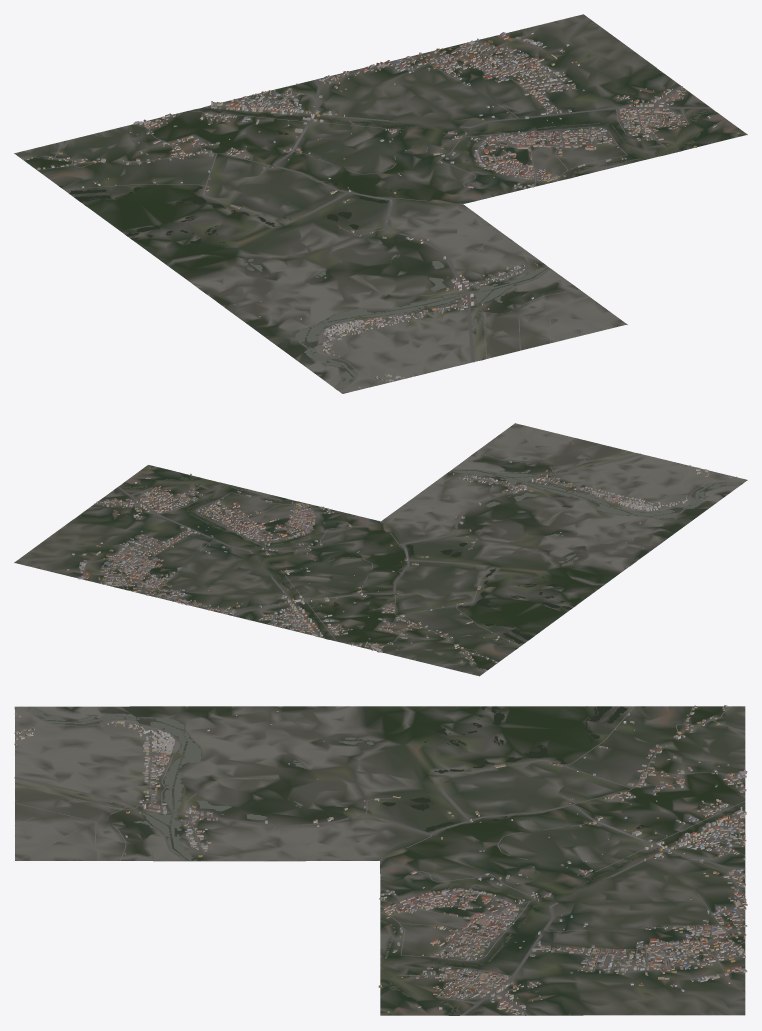
3 views of the same model, one above another, from view 1: azimuth 30°, elevation 25°; view 2: azimuth 150°, elevation 25°; view 3: azimuth 270°, elevation 25° (orthographic). The views are drawn at different scales.
Parts seen in each view (by area): view 1: ground, buildings, roads, water; view 2: ground, buildings, roads, water; view 3: ground, buildings, roads, water.
Part boxes in pixels (x1,y1,x2,y2): ground: [14, 14, 747, 393]; buildings: [22, 32, 739, 390]; roads: [20, 24, 711, 391]; water: [59, 47, 714, 388]; ground: [14, 423, 747, 676]; buildings: [67, 455, 737, 671]; roads: [46, 429, 745, 672]; water: [75, 453, 741, 649]; ground: [14, 706, 745, 1015]; buildings: [14, 705, 747, 1014]; roads: [14, 706, 745, 1015]; water: [18, 706, 737, 1015].
Size of the model in its own units: 2812 by 31.64 by 2817.
